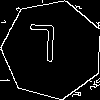L: (27, 24, 57, 71)
